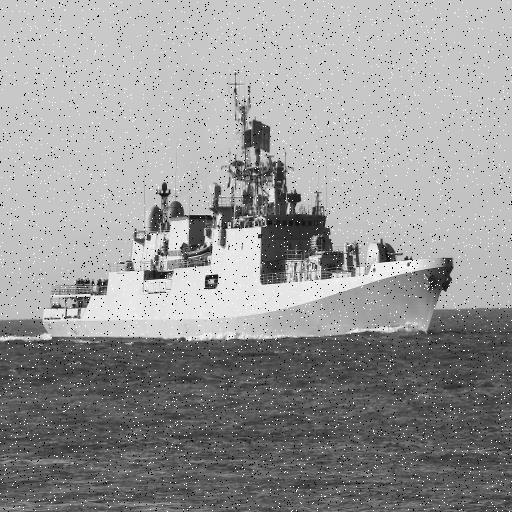Fragata: (38, 64, 456, 343)
